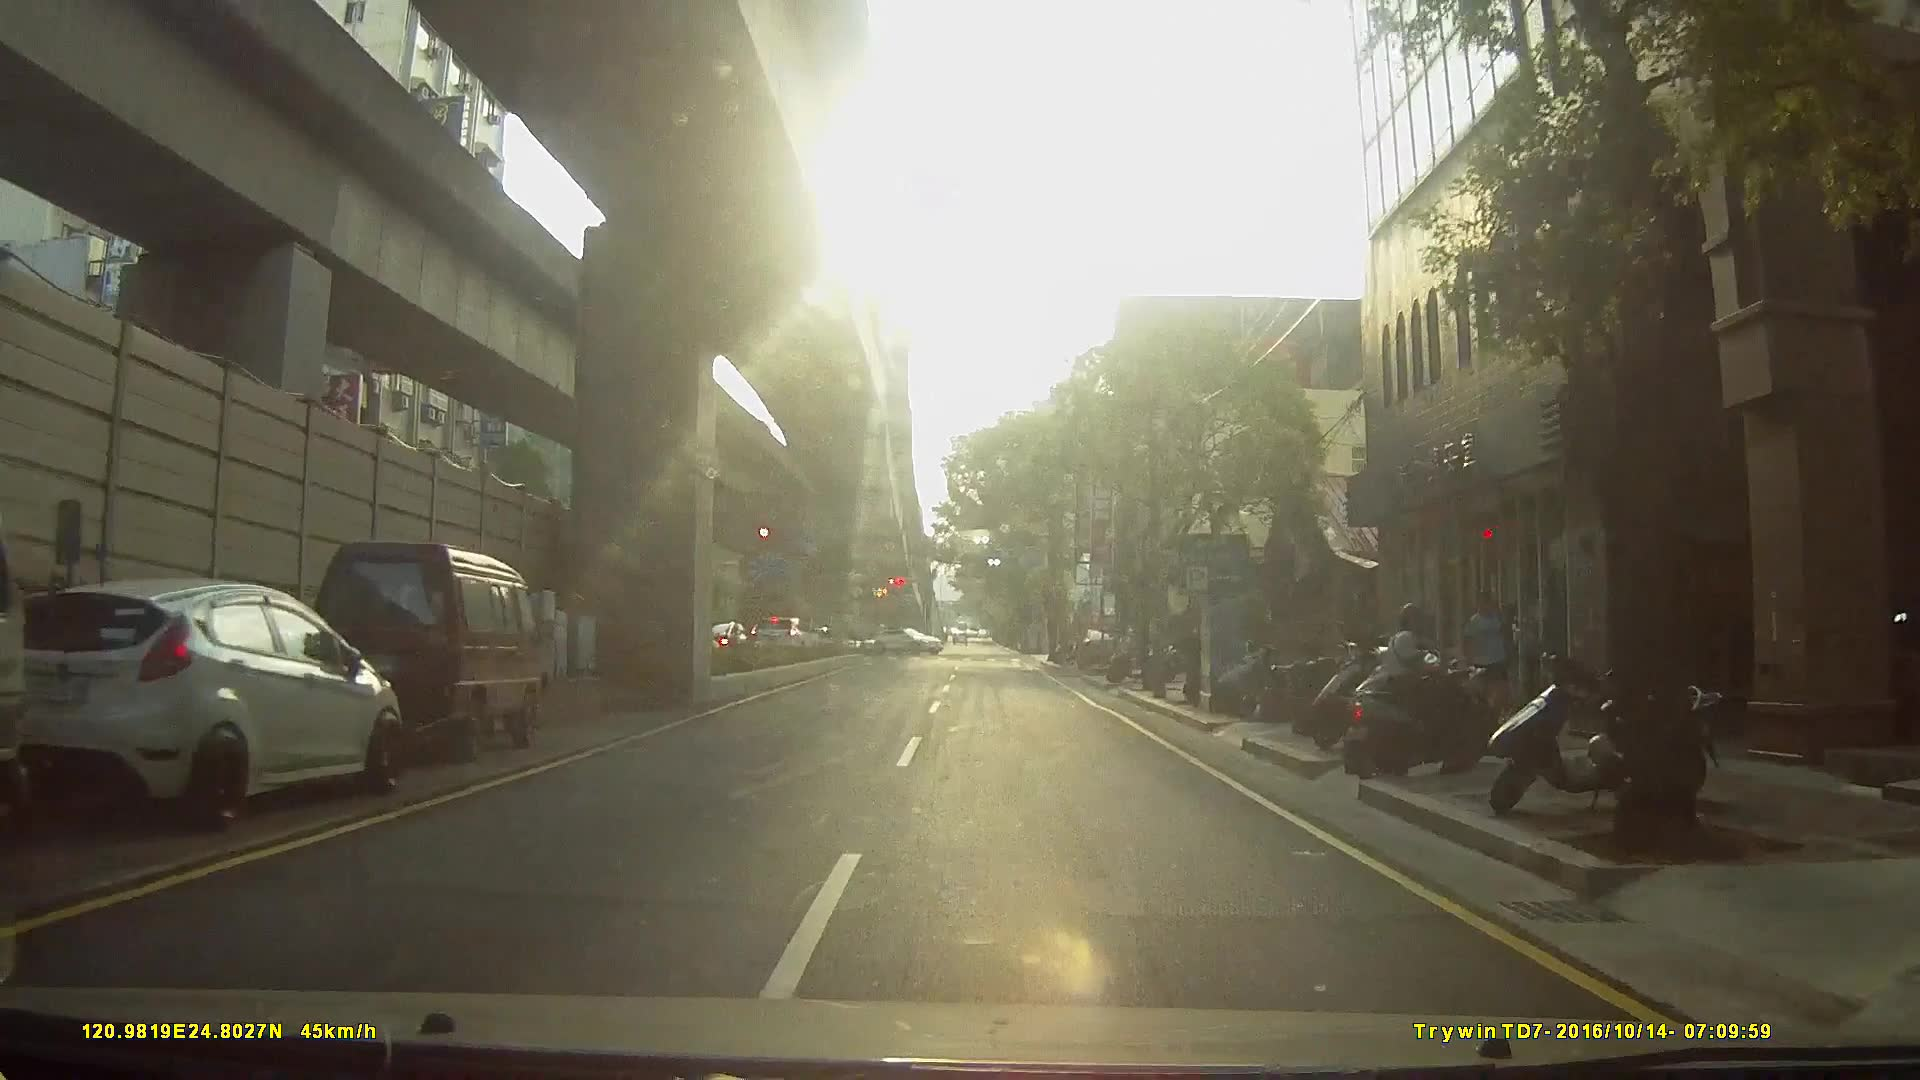pedestrian: (1460, 594, 1515, 724)
rider: (1342, 604, 1508, 794)
vehicle: (1, 565, 412, 839), (286, 534, 567, 770), (746, 615, 821, 660), (1071, 624, 1121, 670), (870, 626, 945, 655)
